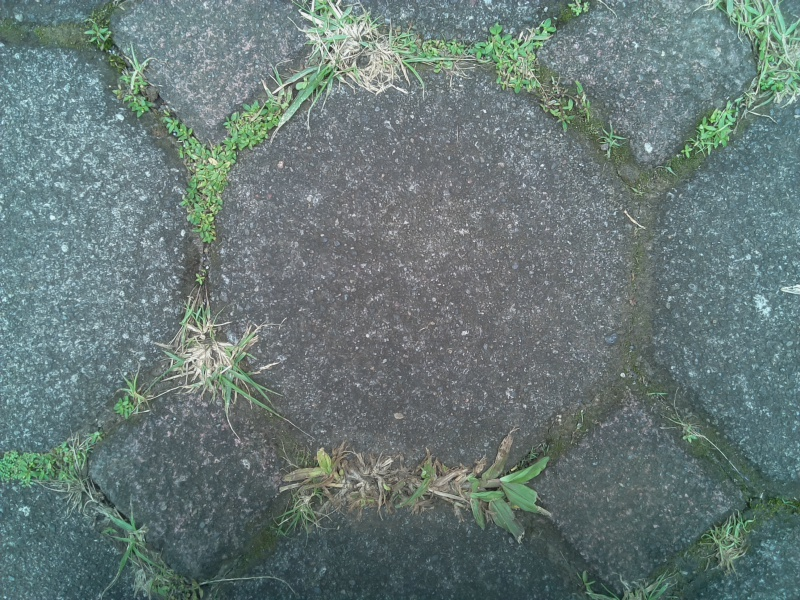Weed: (160, 99, 282, 245), (392, 446, 555, 537), (166, 299, 277, 393), (295, 16, 414, 98), (722, 1, 800, 103), (467, 13, 562, 96), (675, 82, 746, 173), (301, 443, 374, 513), (692, 506, 762, 577), (2, 438, 77, 497), (574, 559, 676, 600), (57, 430, 103, 516), (662, 397, 720, 454), (404, 25, 472, 73), (112, 52, 157, 121), (105, 497, 153, 557), (544, 78, 593, 135), (103, 373, 151, 430), (276, 490, 327, 538), (596, 118, 634, 163), (79, 14, 114, 56)
